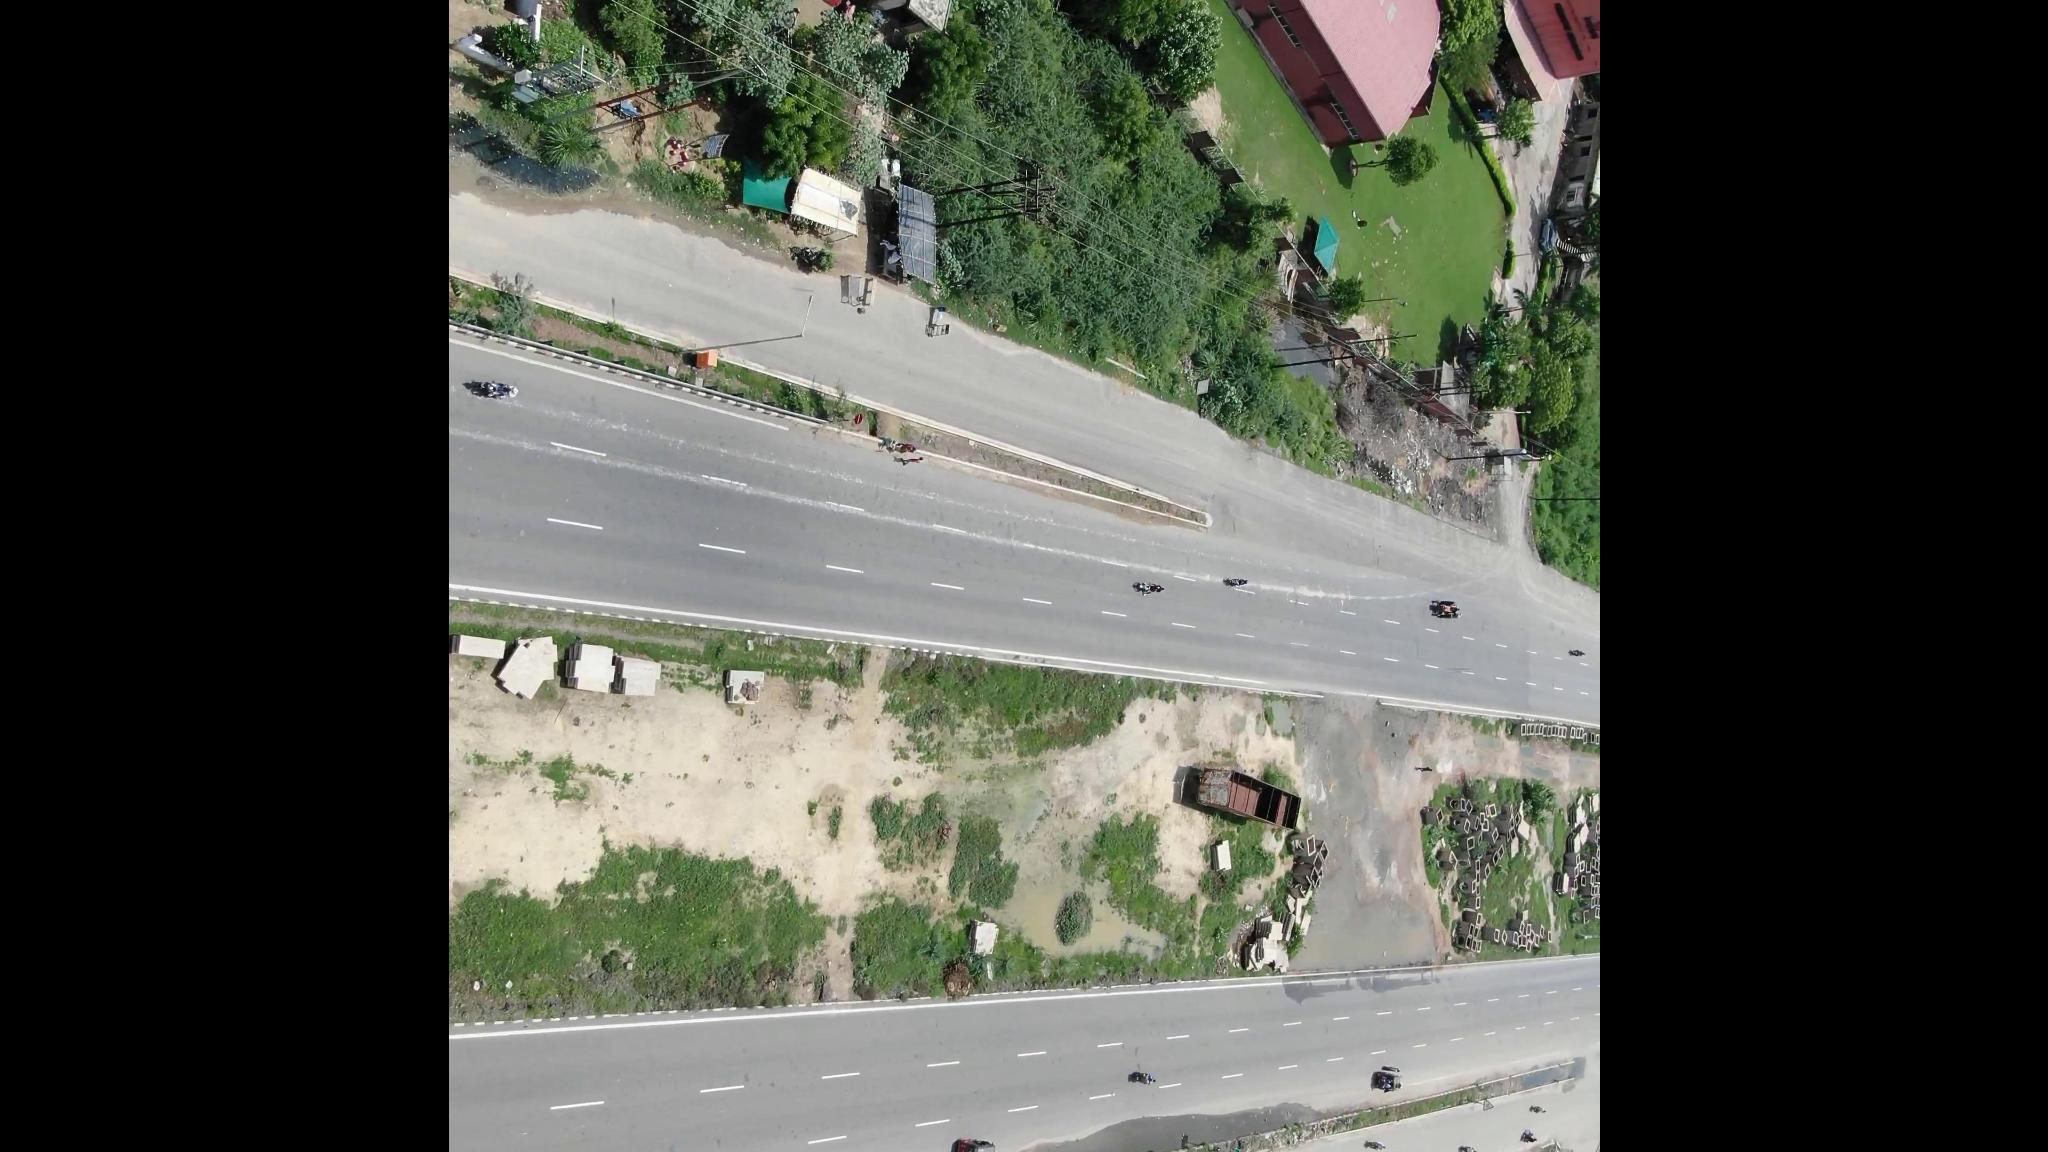Ravelling: (577, 408, 696, 453), (598, 461, 722, 492), (969, 504, 1082, 535), (1079, 556, 1190, 582), (757, 489, 852, 518), (1262, 582, 1350, 603)
Waterlogging: (453, 115, 601, 205), (1054, 1104, 1283, 1152)
